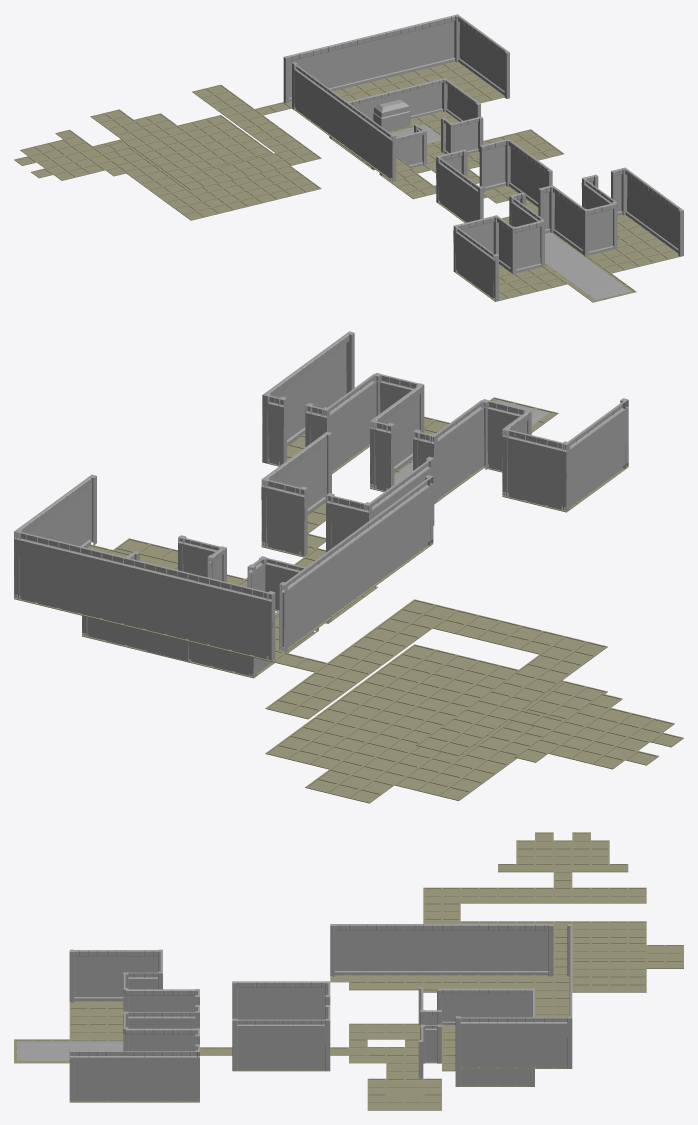
The model's file is FloorOneLayout.fbx.
3 renders of one model, top to bottom at view 1: azimuth 30°, elevation 25°; view 2: azimuth 150°, elevation 25°; view 3: azimuth 270°, elevation 25°, orthographic. The views are drawn at different scales.
Parts seen in each view (by area): view 1: pCube1, Plain_Wall82, Plain_Wall86, Plain_Wall84, Plain_Wall88, Plain_Wall85, Plain_Wall89, Plain_Wall81, Plain_Wall83, Plain_Wall16, Plain_Wall18, Plain_Wall17 (+11 smaller); view 2: Plain_Wall80, Plain_Wall82, Plain_Wall1, Plain_Wall86, Plain_Wall84, Plain_Wall88, Plain_Wall83, Plain_Wall85, Plain_Wall89, Plain_Wall79, Plain_Wall81, Plain_Wall40 (+42 smaller); view 3: Plain_Wall91, Plain_Wall97, Plain_Wall94, Plain_Wall12, Plain_Wall106, Plain_Wall50, Plain_Wall49, Plain_Wall93, Plain_Wall96, Plain_Wall6, Plain_Wall51, Plain_Wall52 (+40 smaller).
Part boxes in pixels (x1,y1,x2,y2): pCube1: [373, 99, 410, 131]; Plain_Wall82: [341, 39, 357, 88]; Plain_Wall86: [370, 32, 386, 81]; Plain_Wall84: [399, 25, 415, 74]; Plain_Wall88: [428, 18, 444, 67]; Plain_Wall85: [385, 28, 400, 77]; Plain_Wall89: [414, 21, 429, 70]; Plain_Wall81: [356, 35, 371, 84]; Plain_Wall83: [327, 42, 342, 91]; Plain_Wall16: [515, 224, 529, 273]; Plain_Wall18: [587, 206, 601, 255]; Plain_Wall17: [528, 221, 543, 269]; Plain_Wall80: [207, 578, 230, 649]; Plain_Wall82: [164, 567, 187, 639]; Plain_Wall1: [523, 433, 546, 505]; Plain_Wall86: [121, 557, 144, 628]; Plain_Wall84: [78, 546, 101, 618]; Plain_Wall88: [35, 536, 58, 607]; Plain_Wall83: [186, 572, 208, 644]; Plain_Wall85: [100, 551, 122, 623]; Plain_Wall89: [57, 541, 79, 613]; Plain_Wall79: [229, 583, 251, 655]; Plain_Wall81: [143, 562, 165, 634]; Plain_Wall40: [283, 484, 304, 555]; Plain_Wall91: [367, 924, 386, 975]; Plain_Wall97: [460, 924, 479, 975]; Plain_Wall94: [404, 924, 423, 975]; Plain_Wall12: [125, 1051, 144, 1101]; Plain_Wall106: [460, 1017, 479, 1067]; Plain_Wall50: [274, 1019, 293, 1070]; Plain_Wall49: [293, 1019, 311, 1070]; Plain_Wall93: [386, 924, 404, 975]; Plain_Wall96: [479, 924, 497, 975]; Plain_Wall6: [88, 950, 106, 1001]; Plain_Wall51: [256, 1019, 274, 1070]; Plain_Wall52: [237, 1019, 255, 1070].
Bounding box in the file's own units: 31 × 5.02 × 36.
